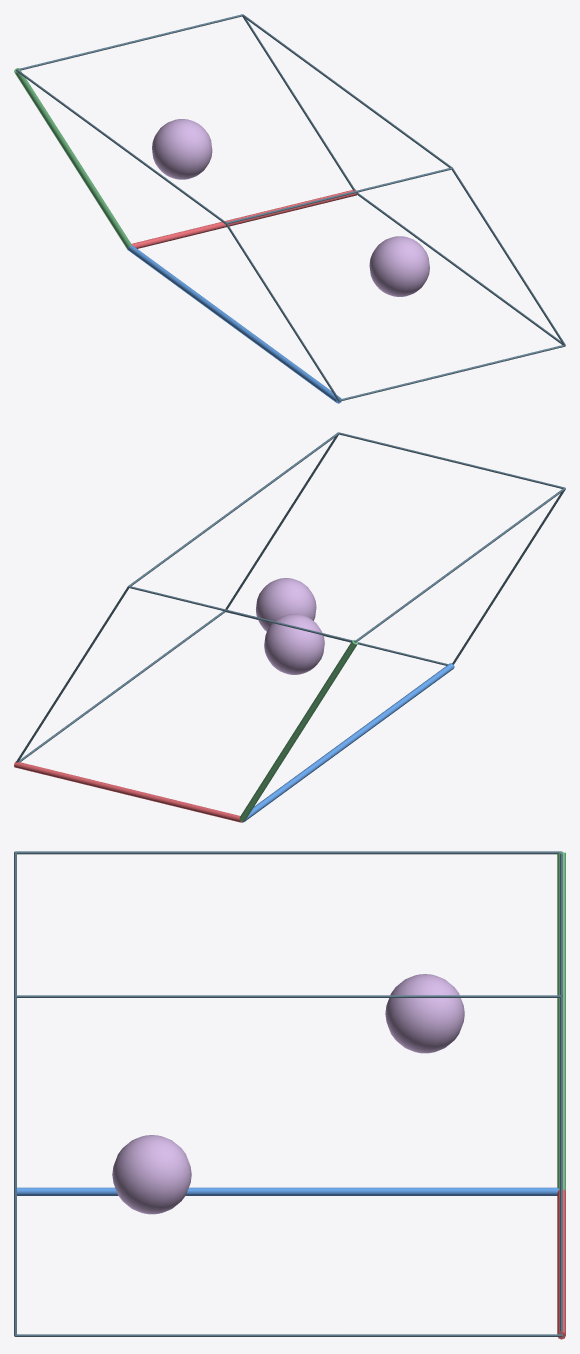
Rendered from nguyen-to-tc.glb.
3 views of the same model, one above another, from view 1: azimuth 30°, elevation 25°; view 2: azimuth 150°, elevation 25°; view 3: azimuth 270°, elevation 25° (orthographic). The views are drawn at different scales.
Parts seen in each view (by area): view 1: Ô mạng và các trục a, b, c, Tc1 · Tc · 1 (×2); view 2: Ô mạng và các trục a, b, c, Tc1 · Tc · 1 (×2); view 3: Ô mạng và các trục a, b, c, Tc1 · Tc · 1 (×2).
Boxes of the visible parts, <box> form: Ô mạng và các trục a, b, c: <box>14,14,565,403</box>; Tc1 · Tc · 1 (×2): <box>152,119,429,296</box>; Ô mạng và các trục a, b, c: <box>14,432,565,822</box>; Tc1 · Tc · 1 (×2): <box>256,578,324,674</box>; Ô mạng và các trục a, b, c: <box>14,851,565,1339</box>; Tc1 · Tc · 1 (×2): <box>112,974,464,1214</box>.
Bounding box in the file's own units: 4.15 × 2.43 × 4.45.
